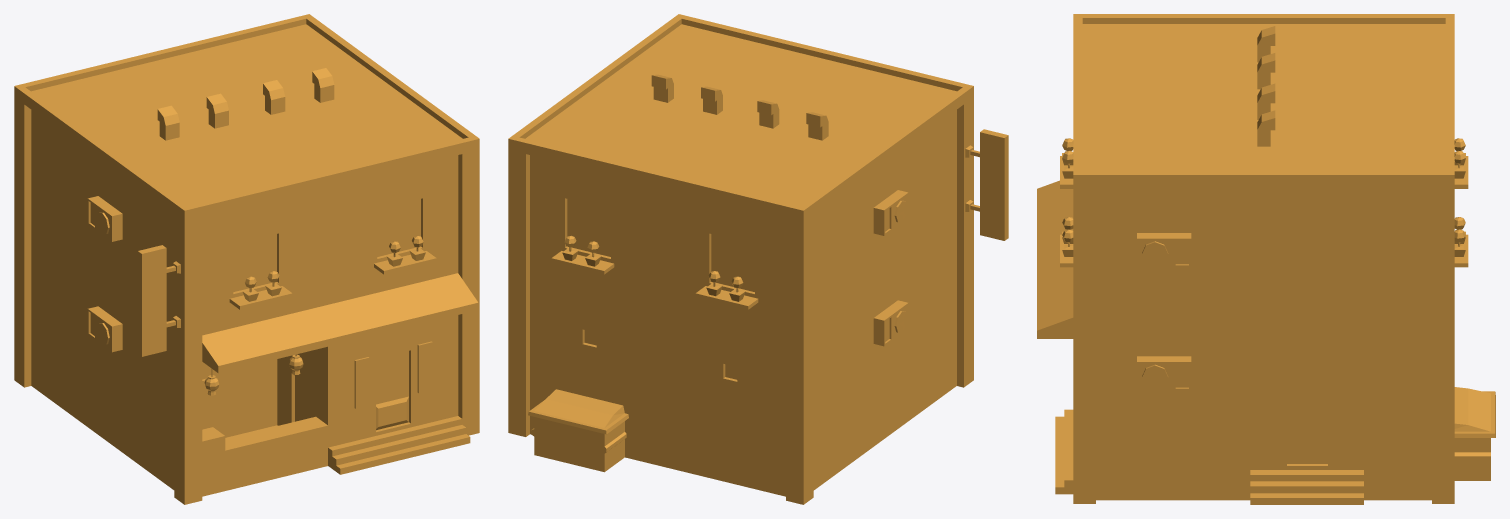
File: building-shop-china.glb
3 views of the same model, side by side, from view 1: azimuth 30°, elevation 25°; view 2: azimuth 150°, elevation 25°; view 3: azimuth 270°, elevation 25° (orthographic). The views are drawn at different scales.
Parts seen in each view (by area): view 1: building-shop-china; view 2: building-shop-china; view 3: building-shop-china.
Part boxes in pixels (x1=…): building-shop-china: x1=14, y1=14, x2=479, y2=504; building-shop-china: x1=508, y1=14, x2=1008, y2=504; building-shop-china: x1=1037, y1=14, x2=1495, y2=504.
Size of the model in its own units: 9.65 by 8.55 by 10.11.
